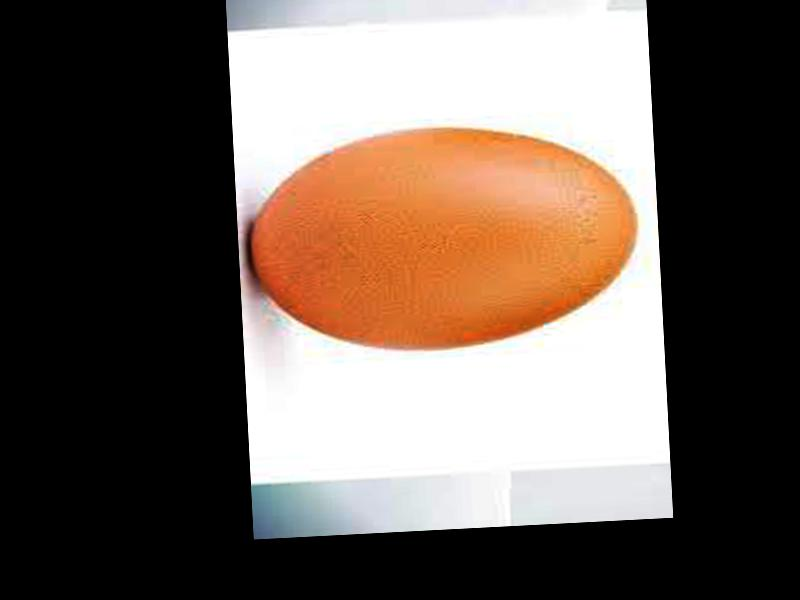Eggs: (245, 118, 641, 358)
